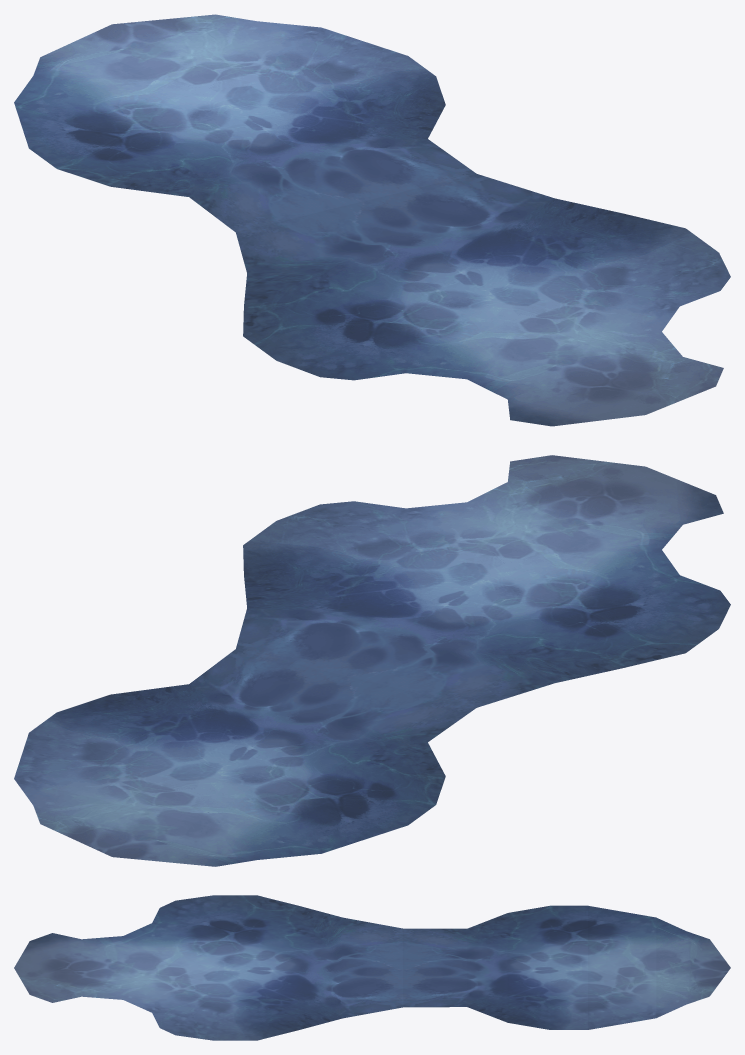
The model's file is yw_bingyuan_pingtai_004.FBX.
The picture shows the model from 3 angles, top to bottom: view 1: azimuth 30°, elevation 25°; view 2: azimuth 150°, elevation 25°; view 3: azimuth 270°, elevation 25°; orthographic projection. The views are drawn at different scales.
Visible parts, largest first — view 1: yw_bingyuan_pingtai_004; view 2: yw_bingyuan_pingtai_004; view 3: yw_bingyuan_pingtai_004.
Part boxes in pixels (x1,y1,x2,y2): yw_bingyuan_pingtai_004: (14, 14, 730, 426); yw_bingyuan_pingtai_004: (14, 455, 730, 866); yw_bingyuan_pingtai_004: (14, 895, 730, 1040).
Size of the model in its own units: 484 by 0.1476 by 1009.
